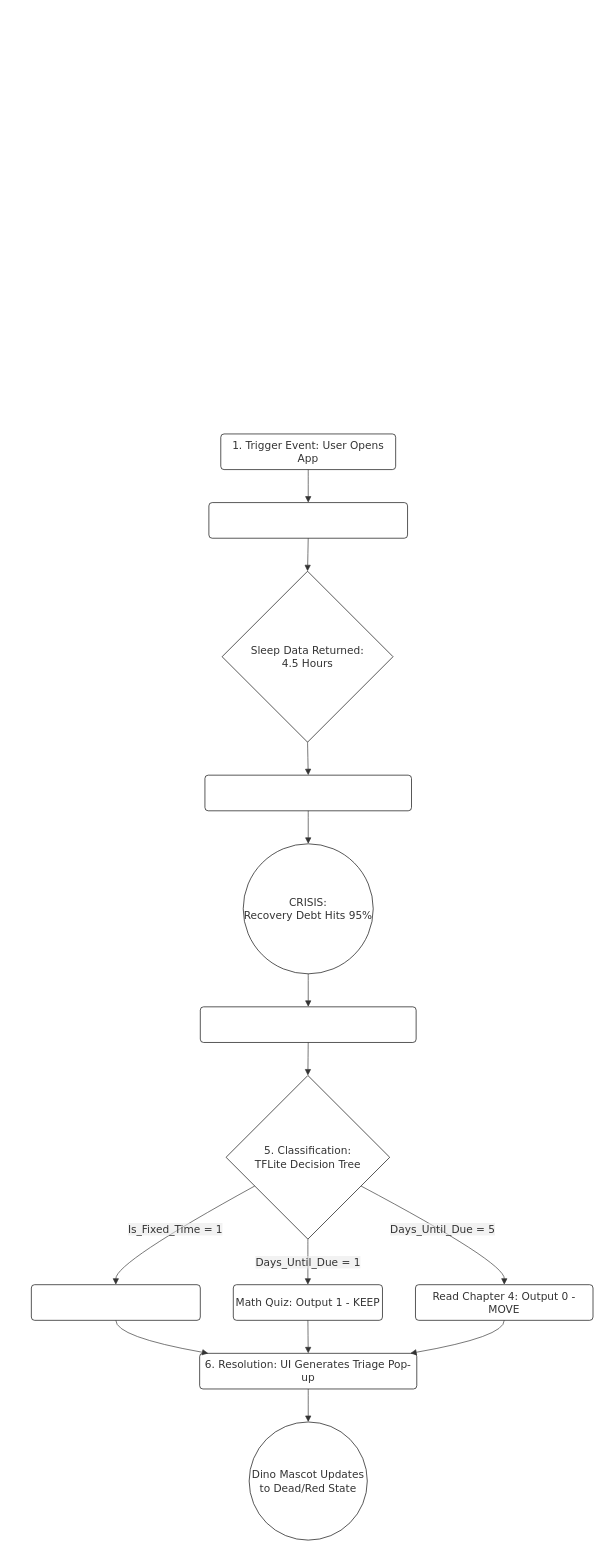
Some shapes in this 605 by 1552 pixel diagram are drawn without their labels. Each missing label, with the centre of its shape:
"2. Detection: Ping Health Connect API" belongs at (x=308, y=520).
"3. Calculation: Java CapacityCalculator" belongs at (x=308, y=793).
"4. Intervention: Java Compiles Task Array" belongs at (x=308, y=1024).
"Café Shift: Output 1 - PROTECT" belongs at (x=115, y=1302).
